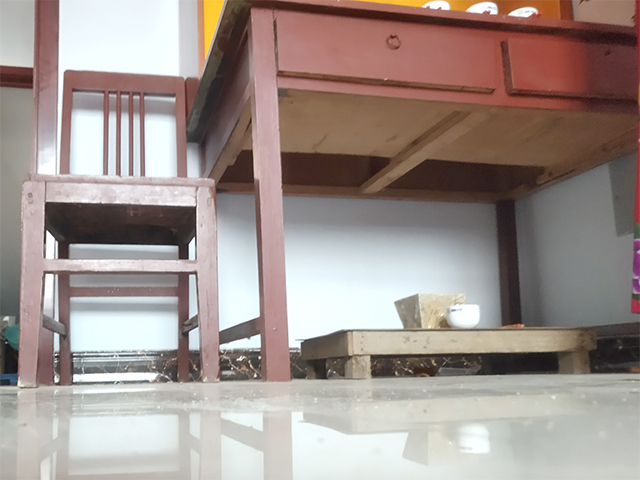stool: (18, 67, 223, 389), (299, 324, 600, 381)
table: (182, 1, 640, 383)
